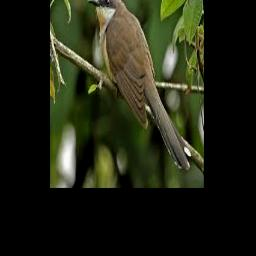Cuckoo: (87, 0, 191, 170)
